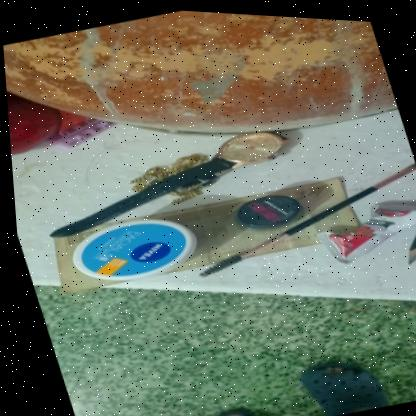five-back-vef: (36, 158, 363, 308)
